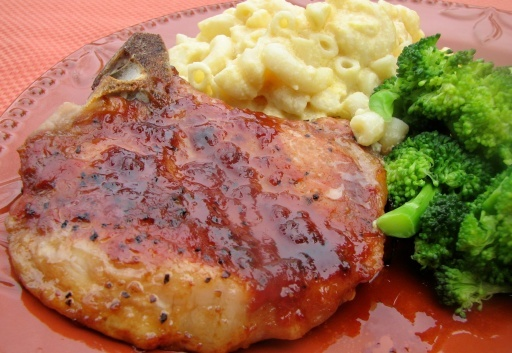background: (0, 0, 410, 195)
